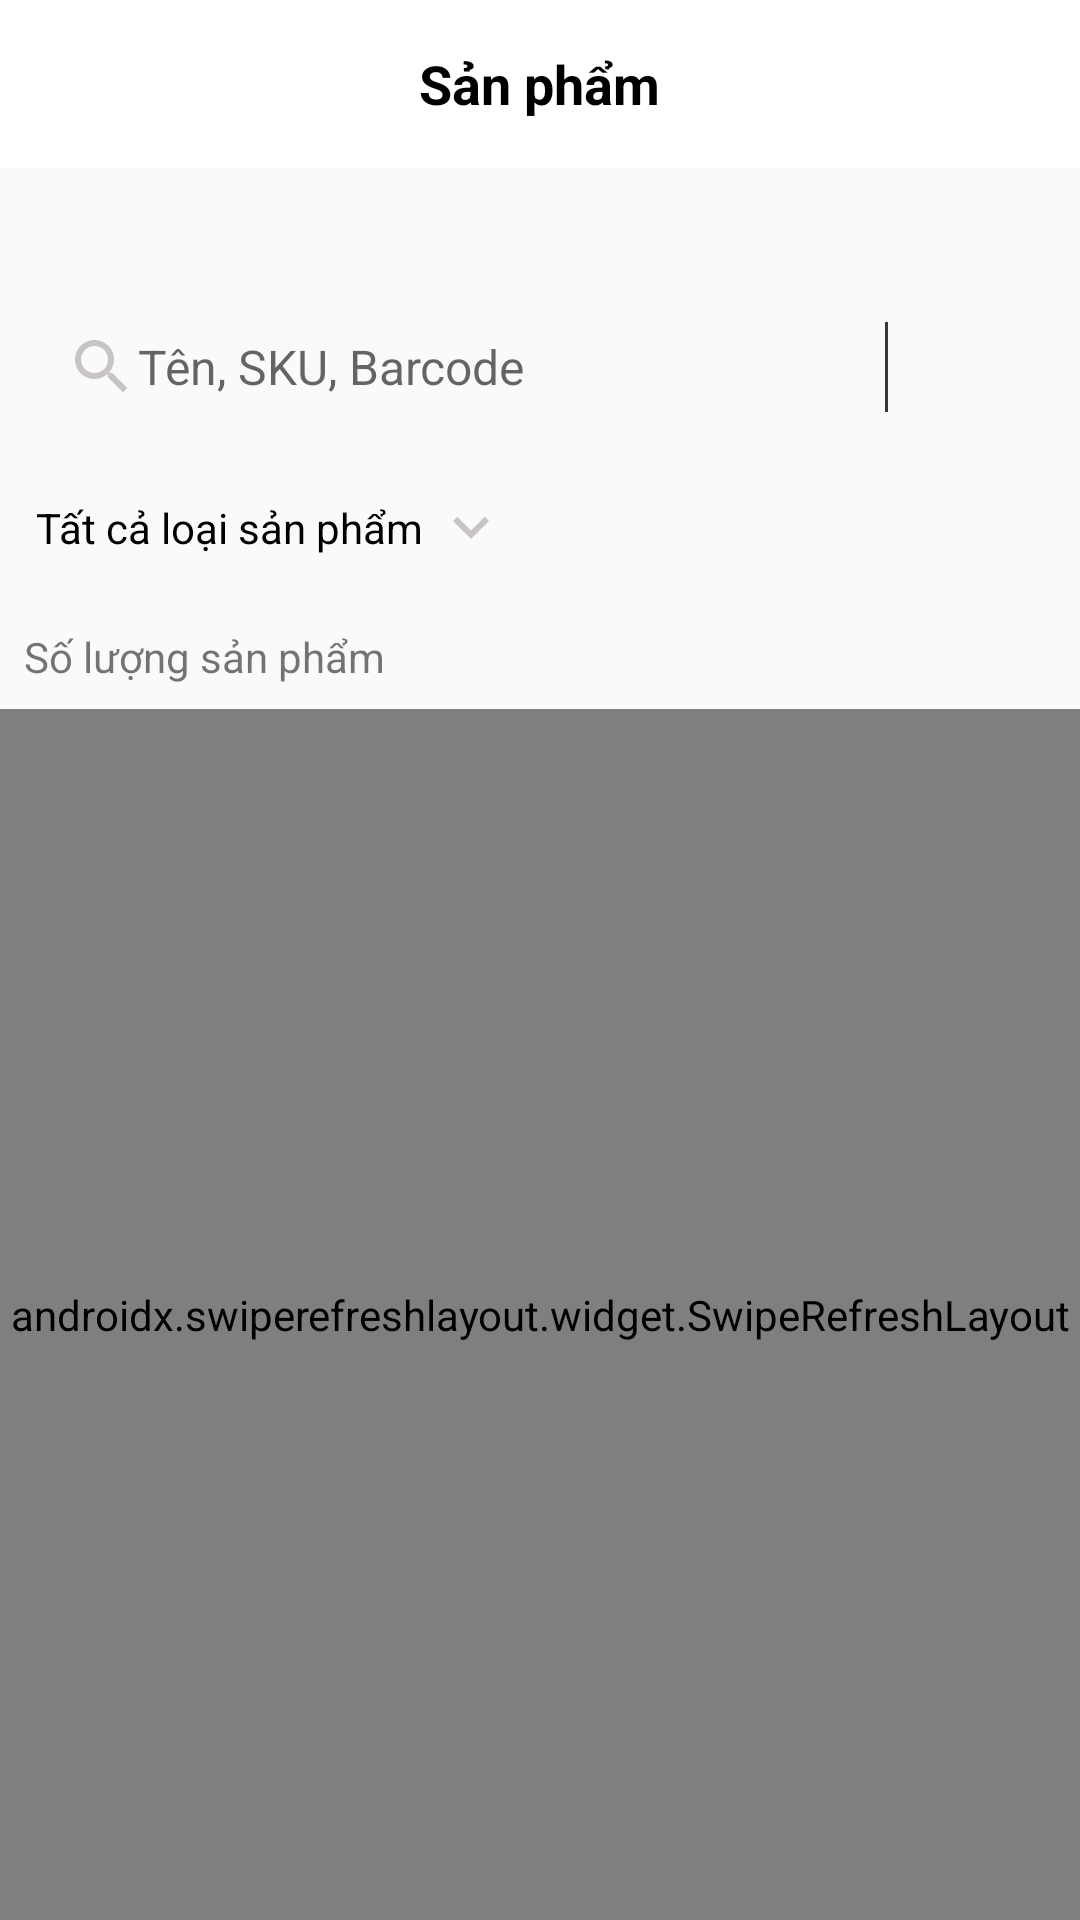

Screen size 1080x1920. Icon name, then its box in pixels as (x1, y1, x2, y2):
down: (453, 517, 489, 539)
